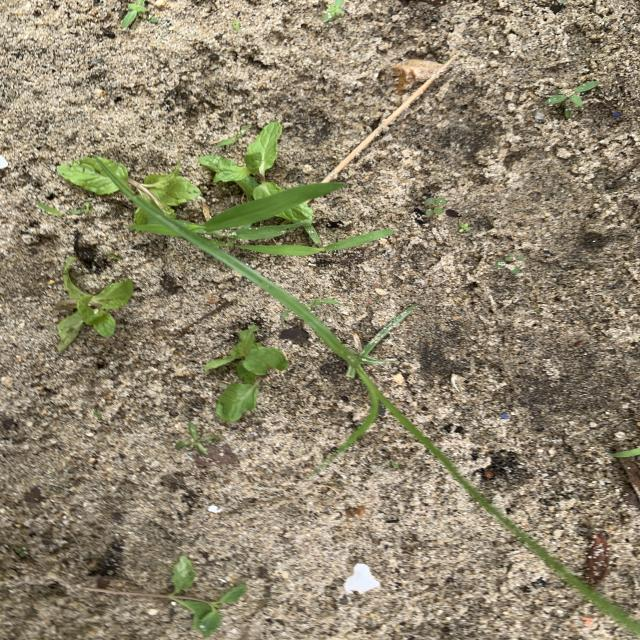crop: (79, 556, 247, 637), (58, 156, 199, 216), (205, 325, 286, 421), (56, 257, 131, 349), (200, 123, 280, 199)
weed: (105, 169, 640, 636), (190, 183, 345, 242), (239, 224, 394, 256), (547, 82, 598, 117), (175, 422, 218, 455), (36, 202, 90, 217), (121, 0, 148, 27), (216, 126, 250, 145), (323, 1, 343, 21), (424, 197, 443, 215), (459, 223, 470, 233), (232, 20, 240, 30)
